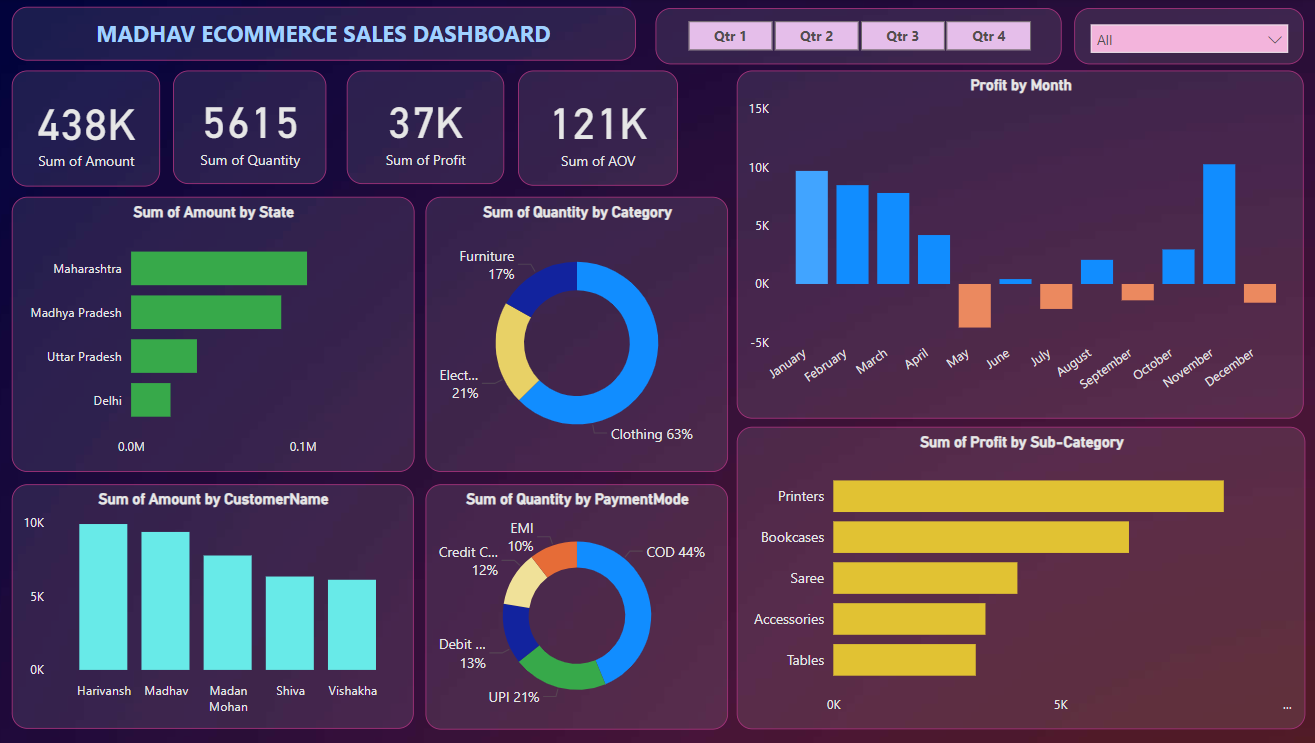

The dashboard page shown, as its layout file describes it:
{"tool":"powerbi","page":{"name":"Page 1","canvas":[1280,720],"ordinal":0},"visuals":[{"type":"textbox","box":[18.1,8.4,602,51.9],"z":0},{"type":"columnChart","title":"Profit by Month","fields":{"Category":["Orders.Order Date.Variation.Date Hierarchy.Month"],"Y":["Details.Profit"]},"box":[717.7,70,547.5,336.2],"z":1000},{"type":"barChart","fields":{"Category":["Details.Sub-Category"],"Y":["Details.Profit"]},"box":[717.8,413.8,548.9,292],"z":2000},{"type":"donutChart","fields":{"Category":["Details.Category"],"Y":["Details.Quantity"]},"box":[417.4,191.8,292,265.4],"z":3000},{"type":"donutChart","fields":{"Category":["Details.PaymentMode"],"Y":["Details.Quantity"]},"box":[417.4,469.3,292,236.5],"z":4000},{"type":"card","fields":{"Values":["Details.Amount"]},"box":[18.1,70,143.6,112.2],"z":5000},{"type":"card","fields":{"Values":["Details.Quantity"]},"box":[173.7,70,148.4,109.8],"z":6000},{"type":"card","fields":{"Values":["Details.Profit"]},"box":[341.4,70,152,109.8],"z":7000},{"type":"card","fields":{"Values":["Details.AOV"]},"box":[506.7,70,154.4,111],"z":8000},{"type":"barChart","fields":{"Category":["Orders.State"],"Y":["Details.Amount"]},"box":[18.1,191.8,388.5,265.4],"z":9000},{"type":"columnChart","fields":{"Category":["Orders.CustomerName"],"Y":["Details.Amount"]},"box":[18,469,388,236],"z":10000},{"type":"slicer","fields":{"Values":["Orders.Order Date.Variation.Date Hierarchy.Quarter"]},"box":[639.4,9.7,392.1,54.3],"z":11000},{"type":"slicer","fields":{"Values":["Orders.State"]},"box":[1043.6,9.7,222,54.3],"z":12000}]}

Visuals, with their boxes in screenshot pixels (x1, y1, x2, y2), scaled from the page's 1280x720 canvas onto the 1315x743 screenshot:
textbox: BBox(19, 9, 637, 62)
"Profit by Month" columnChart: BBox(737, 72, 1300, 419)
barChart - Details.Sub-Category x Details.Profit: BBox(737, 427, 1301, 728)
donutChart - Details.Category x Details.Quantity: BBox(429, 198, 729, 472)
donutChart - Details.PaymentMode x Details.Quantity: BBox(429, 484, 729, 728)
card - Details.Amount: BBox(19, 72, 166, 188)
card - Details.Quantity: BBox(178, 72, 331, 186)
card - Details.Profit: BBox(351, 72, 507, 186)
card - Details.AOV: BBox(521, 72, 679, 187)
barChart - Orders.State x Details.Amount: BBox(19, 198, 418, 472)
columnChart - Orders.CustomerName x Details.Amount: BBox(18, 484, 417, 728)
slicer - Orders.Order Date.Variation.Date Hierarchy.Quarter: BBox(657, 10, 1060, 66)
slicer - Orders.State: BBox(1072, 10, 1300, 66)
